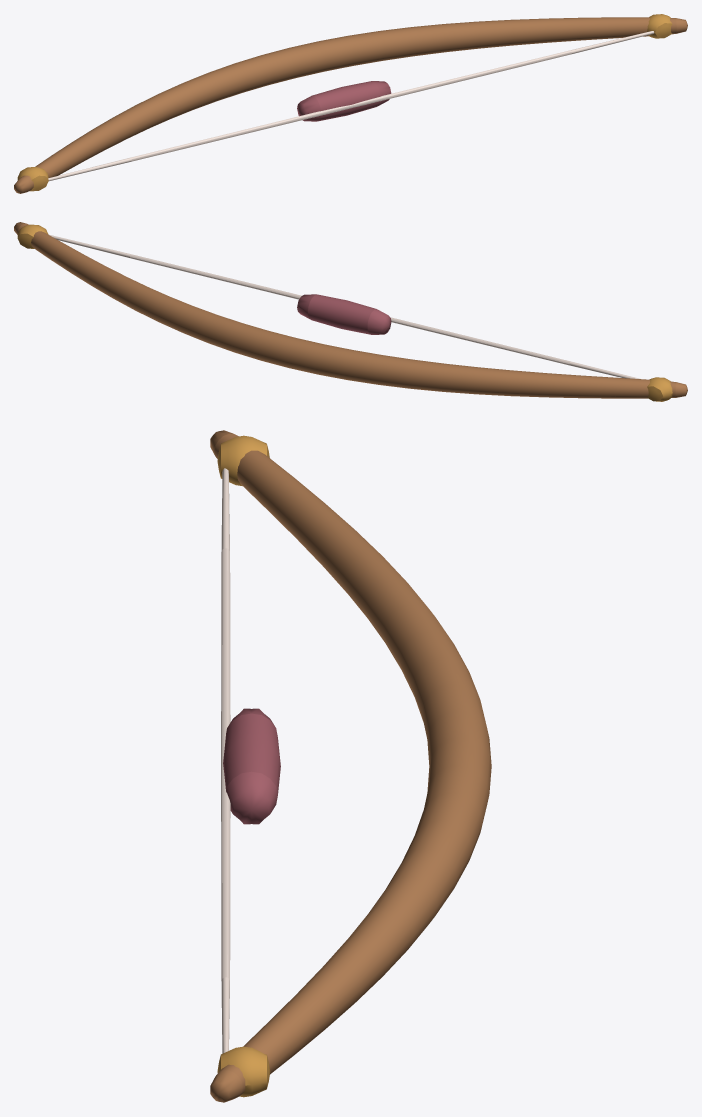
The model's file is weapon_longbow.glb.
3 renders of one model, top to bottom at view 1: azimuth 30°, elevation 25°; view 2: azimuth 150°, elevation 25°; view 3: azimuth 270°, elevation 25°, orthographic. The views are drawn at different scales.
Visible parts, largest first — view 1: weapon_longbow; view 2: weapon_longbow; view 3: weapon_longbow.
Part boxes in pixels (x1=…): weapon_longbow: x1=14, y1=14, x2=687, y2=193; weapon_longbow: x1=14, y1=222, x2=687, y2=401; weapon_longbow: x1=210, y1=430, x2=491, y2=1102.
Bounding box in the file's own units: 1.2 × 0.0485 × 0.2181.
